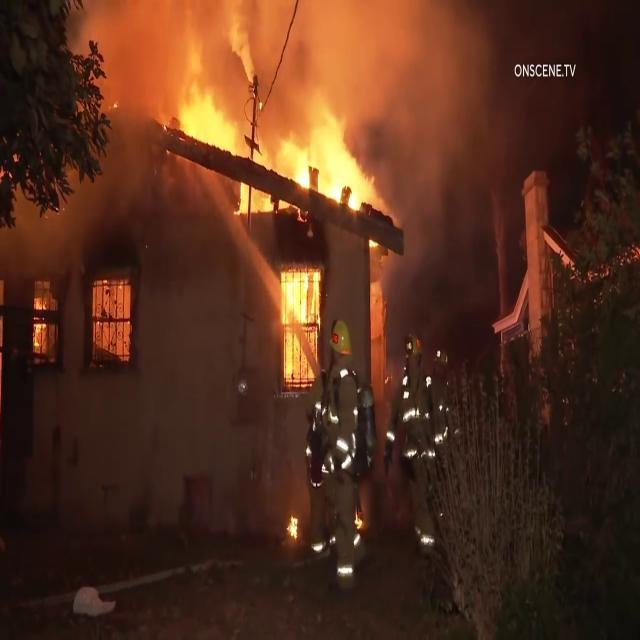Fire: (288, 130, 375, 230), (170, 86, 250, 189), (276, 263, 321, 375), (92, 287, 134, 360), (24, 276, 62, 352), (354, 508, 368, 540), (290, 507, 300, 541)
Smoke: (348, 3, 572, 117), (406, 138, 470, 272)
